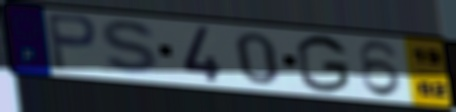0: (232, 31, 283, 87)
4: (179, 25, 223, 84)
6: (357, 39, 404, 99)
G: (294, 33, 353, 95)
P: (44, 11, 101, 74)
S: (98, 18, 166, 79)
